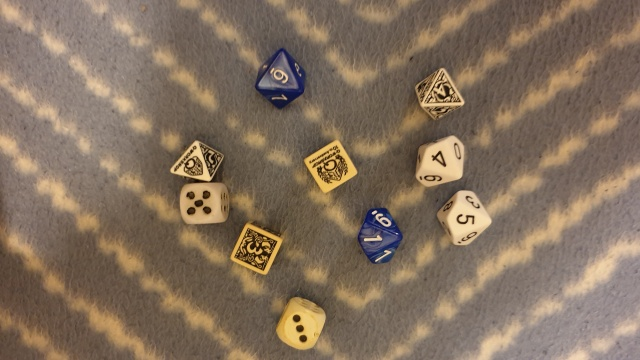d10-1: (352, 203, 406, 268)
d10-4: (408, 129, 471, 189)
d10-5: (433, 188, 497, 249)
d10-6: (252, 45, 310, 115)
d6-3: (273, 294, 328, 353)
d6-5: (177, 181, 231, 225)
d6p-3: (229, 218, 284, 280)
d6p-6: (301, 136, 361, 197)
d8p-4: (409, 62, 468, 121)
d8p-8: (165, 138, 230, 182)
